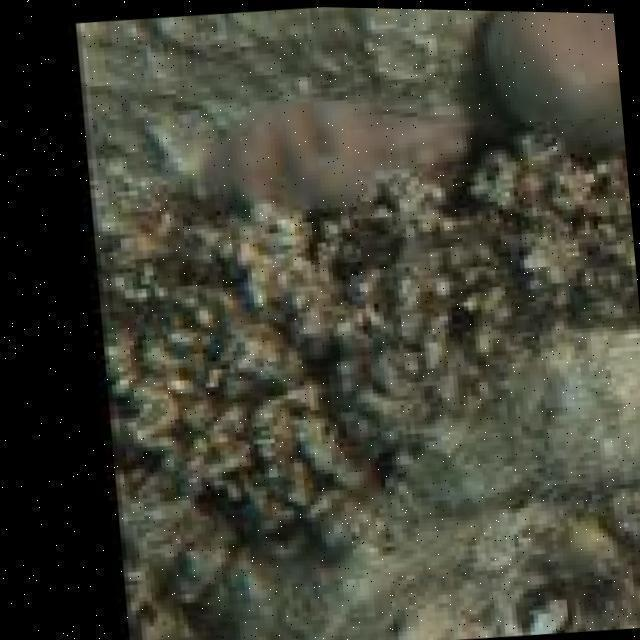Dead Coral: (96, 140, 640, 599)
